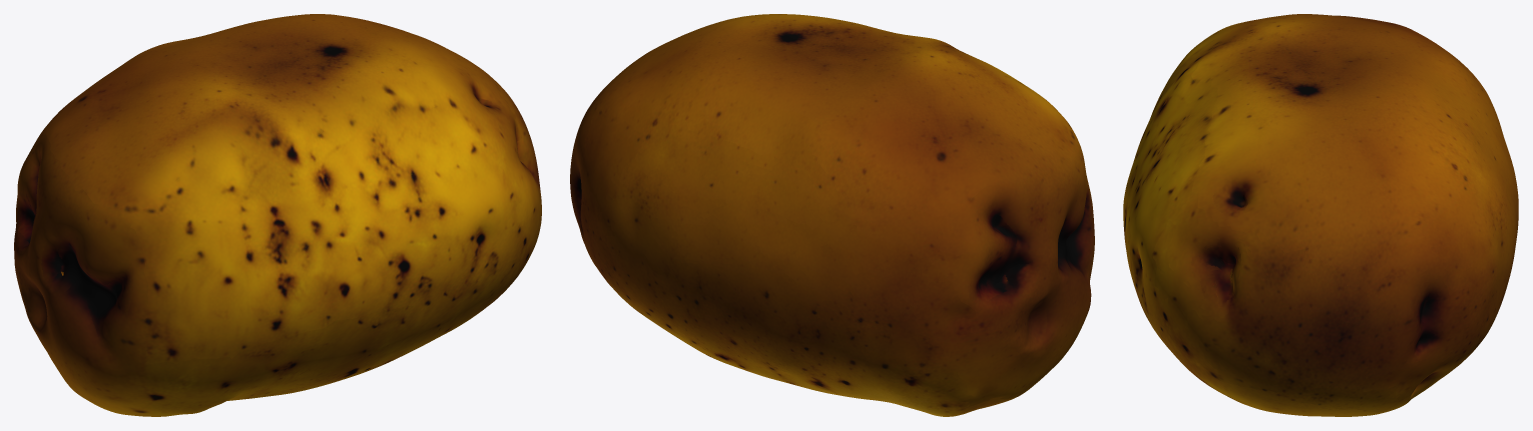
3 views of the same model, side by side, from view 1: azimuth 30°, elevation 25°; view 2: azimuth 150°, elevation 25°; view 3: azimuth 270°, elevation 25° (orthographic).
Parts seen in each view (by area): view 1: tmp4_f7l_7x.ply; view 2: tmp4_f7l_7x.ply; view 3: tmp4_f7l_7x.ply.
Boxes of the visible parts, <box> form: tmp4_f7l_7x.ply: <box>14,14,541,416</box>; tmp4_f7l_7x.ply: <box>570,14,1094,416</box>; tmp4_f7l_7x.ply: <box>1123,14,1518,416</box>.
Size of the model in its own units: 1.99 by 1.27 by 1.45.
Materials: 1 (1 with a texture image).
